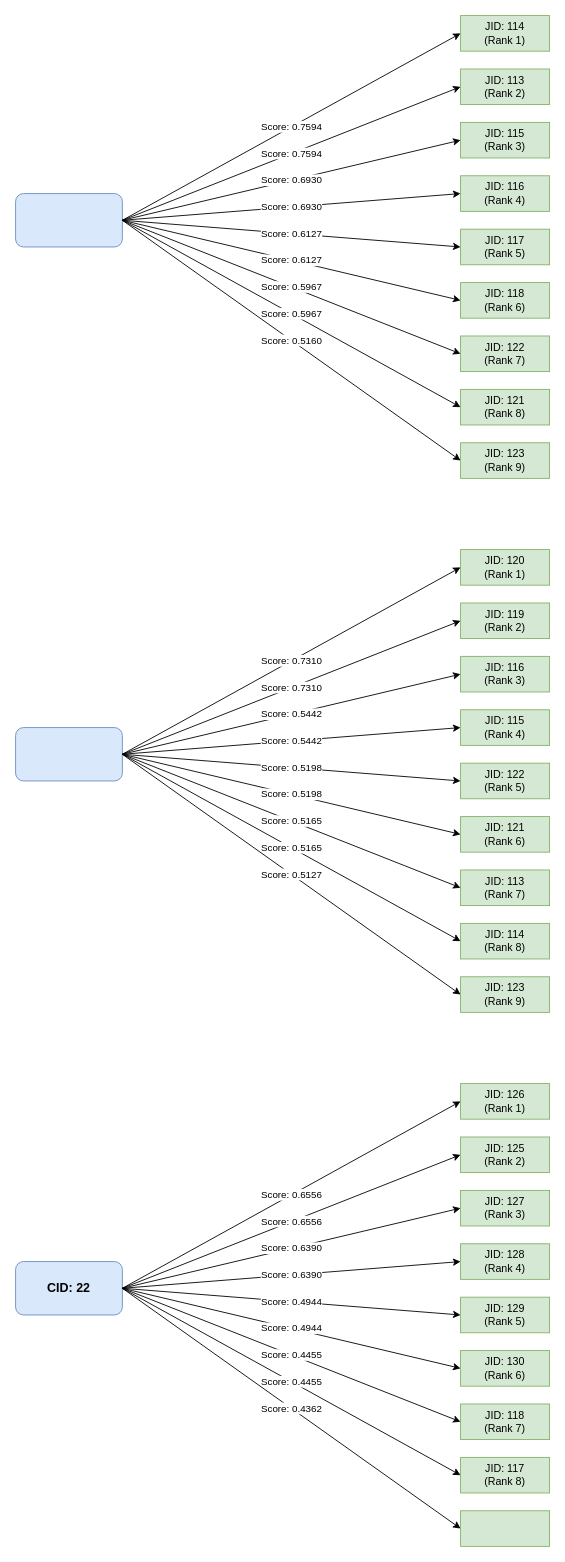
Image size: 565x1562. Some labels were removed from this diagram. Here are the shapes that lost their labels. From the top down, the centre of each, then its label:
point 68,220: CID: 20
point 68,754: CID: 21
point 505,1528: JID: 124 (Rank 9)
